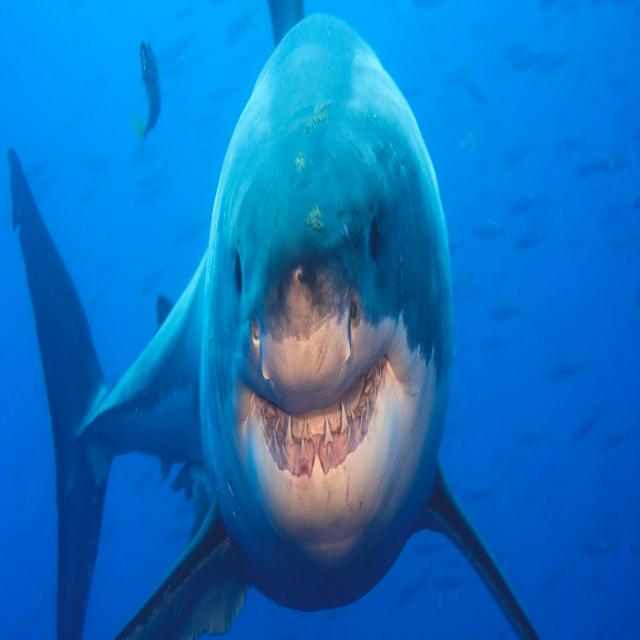shark: (8, 0, 538, 638)
